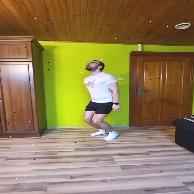high_jumps: (73, 54, 134, 148)
